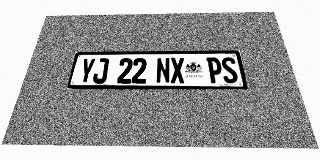2: (117, 58, 133, 83), (131, 58, 147, 83)
J: (92, 58, 109, 83)
N: (156, 58, 170, 83)
P: (206, 57, 224, 83)
S: (220, 57, 239, 83)
X: (170, 57, 185, 83)
Y: (78, 58, 96, 83)
